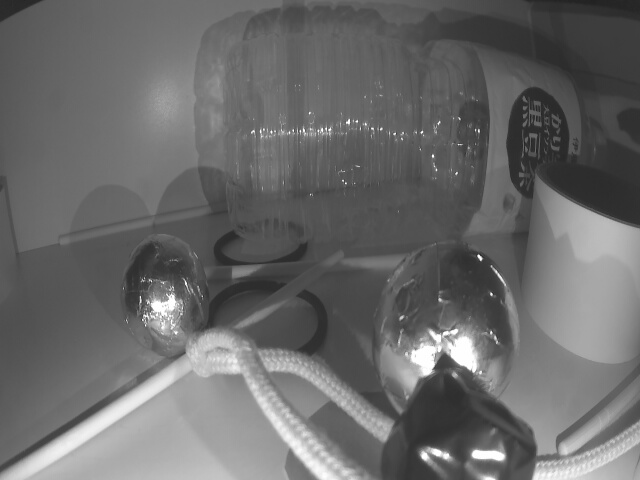Dead: (389, 372, 533, 480)
Live: (377, 247, 519, 405), (118, 237, 211, 352)
